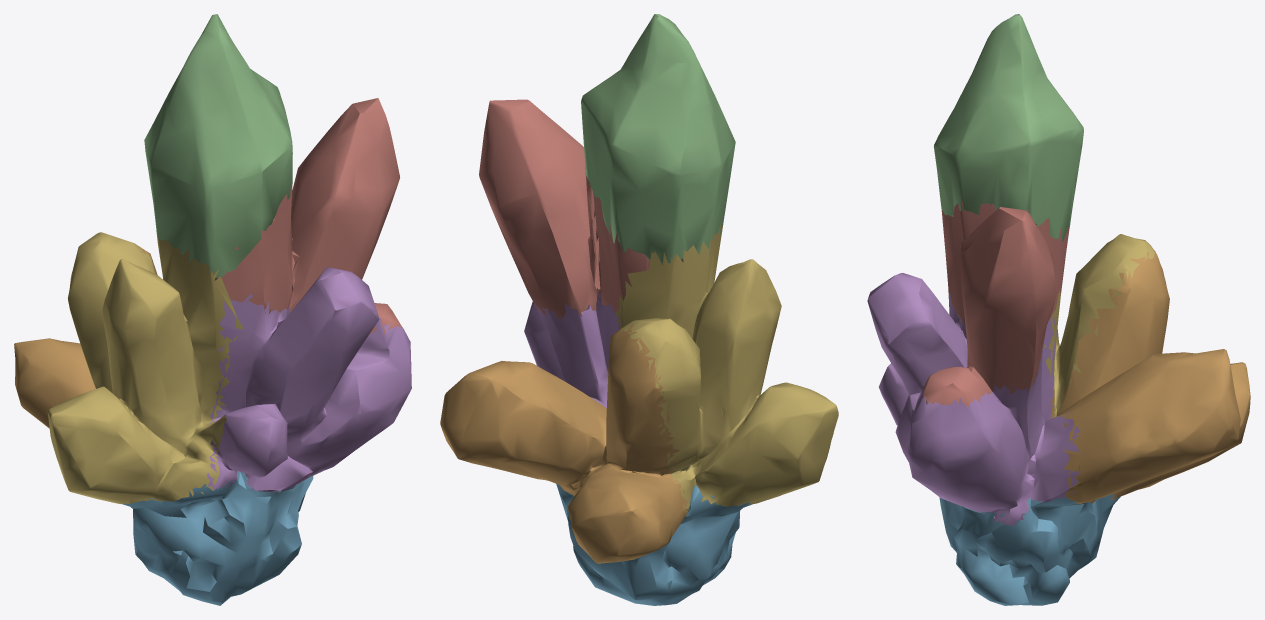
The model's file is magic-crystals-parts_preview_web.glb.
The picture shows the model from 3 angles, left to right: view 1: azimuth 30°, elevation 25°; view 2: azimuth 150°, elevation 25°; view 3: azimuth 270°, elevation 25°; orthographic projection.
Visible parts, largest first — view 1: part_00_preview; view 2: part_00_preview; view 3: part_00_preview.
Part boxes in pixels (x1,y1,x2,y2): part_00_preview: (14, 14, 411, 605); part_00_preview: (440, 14, 838, 605); part_00_preview: (867, 14, 1250, 605).
Size of the model in its own units: 1.22 by 1.97 by 1.18.
